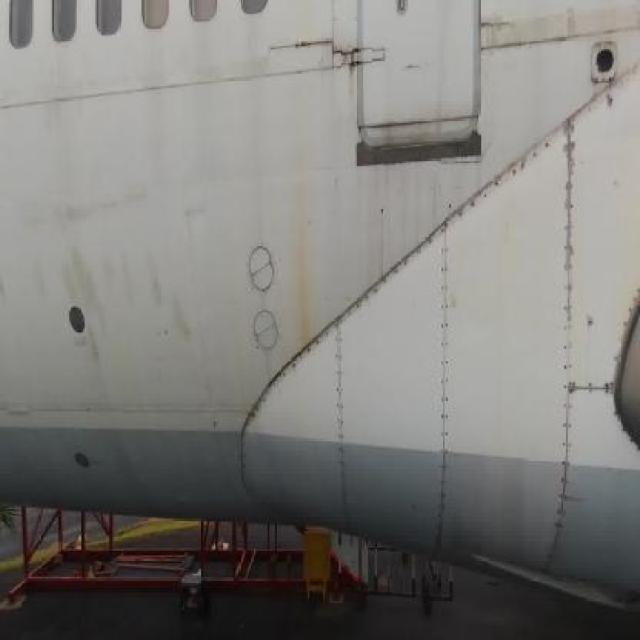Missing-Rivet: (552, 102, 580, 546), (456, 136, 552, 232), (346, 233, 432, 325), (432, 206, 456, 517), (250, 327, 332, 416), (332, 303, 354, 502)
Rust: (278, 148, 328, 354)
Scartch: (1, 245, 210, 380), (9, 179, 156, 233), (481, 6, 581, 71), (176, 181, 224, 250)
